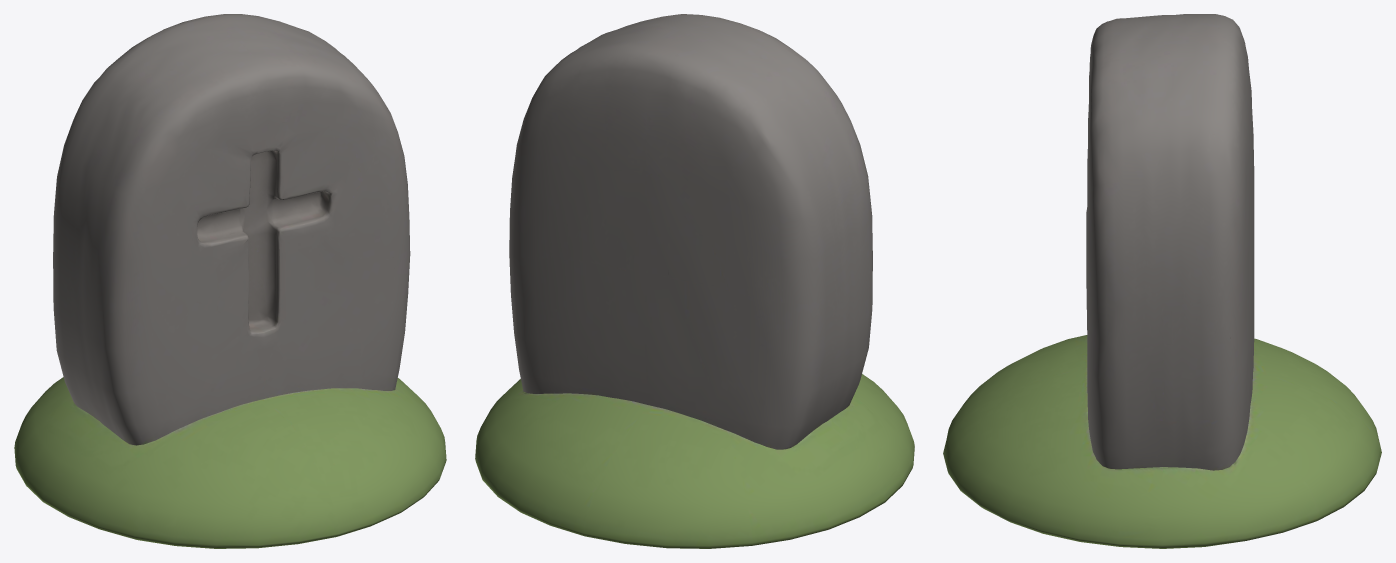
The model's file is asset_pack_item_glb-vd7d0dcraj58ycbcm7n9arqjjx8bztjr-16-ks72atrs99rr5x9hz5p5br2rvd8bzn4p.glb.
The picture shows the model from 3 angles, left to right: view 1: azimuth 30°, elevation 25°; view 2: azimuth 150°, elevation 25°; view 3: azimuth 270°, elevation 25°; orthographic projection.
Parts seen in each view (by area): view 1: prop-tombstone; view 2: prop-tombstone; view 3: prop-tombstone.
Boxes of the visible parts, x1,y1,x2,y2 form: prop-tombstone: (14, 14, 446, 548); prop-tombstone: (475, 14, 914, 548); prop-tombstone: (943, 14, 1381, 548).
Bounding box in the file's own units: 0.9277 × 0.998 × 0.9277.
1 material, 1 textured.
